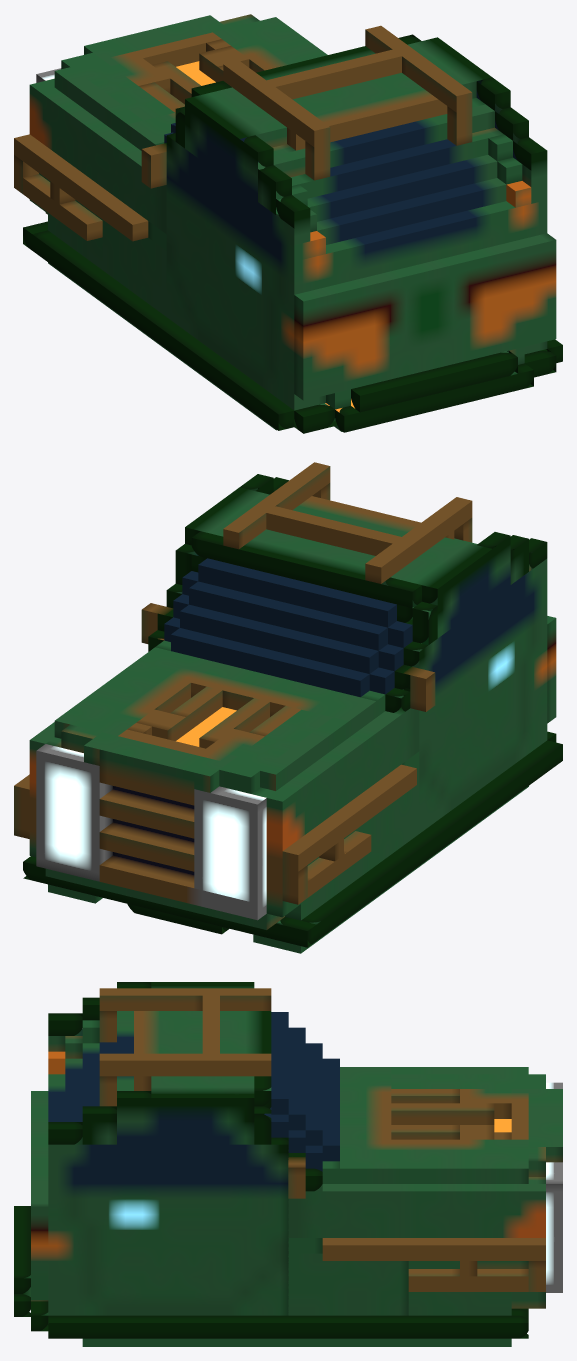
The model's file is auto_03.dae.
3 renders of one model, top to bottom at view 1: azimuth 30°, elevation 25°; view 2: azimuth 150°, elevation 25°; view 3: azimuth 270°, elevation 25°, orthographic. The views are drawn at different scales.
Parts seen in each view (by area): view 1: Content; view 2: Content; view 3: Content.
Boxes of the visible parts, <box> form: Content: <box>14,14,562,433</box>; Content: <box>14,462,562,953</box>; Content: <box>14,982,562,1346</box>.
Size of the model in its own units: 18 by 17 by 32.
Materials: 1 (1 with a texture image).
